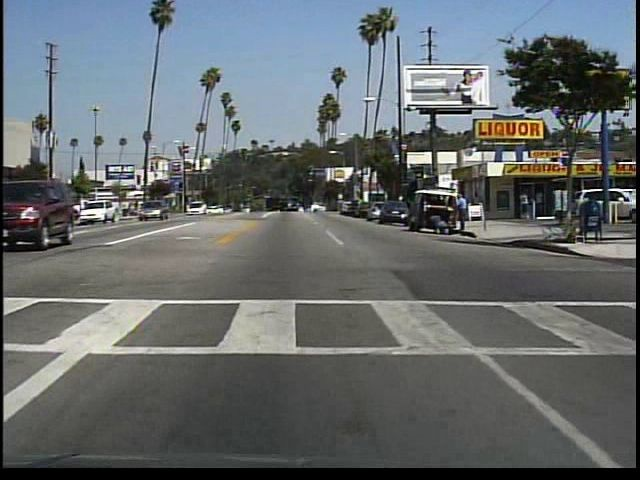person: (452, 189, 472, 234), (6, 193, 34, 225), (516, 187, 530, 223), (429, 213, 448, 235), (534, 187, 546, 218)
